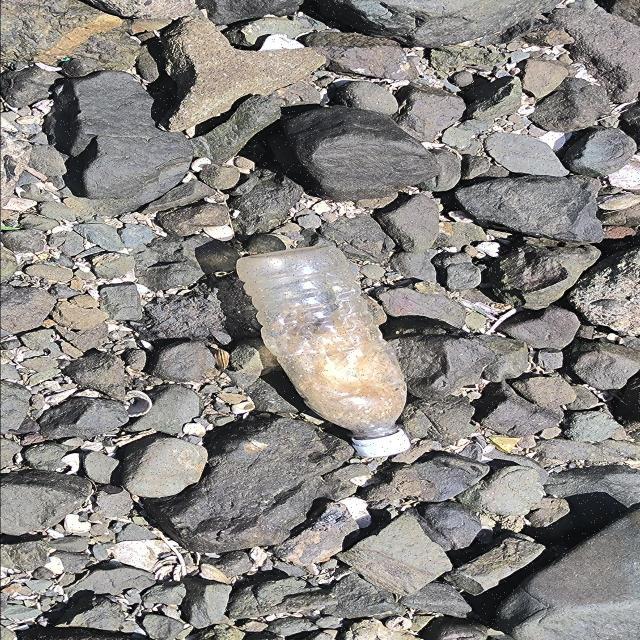plastic_waste: (236, 247, 412, 458)
